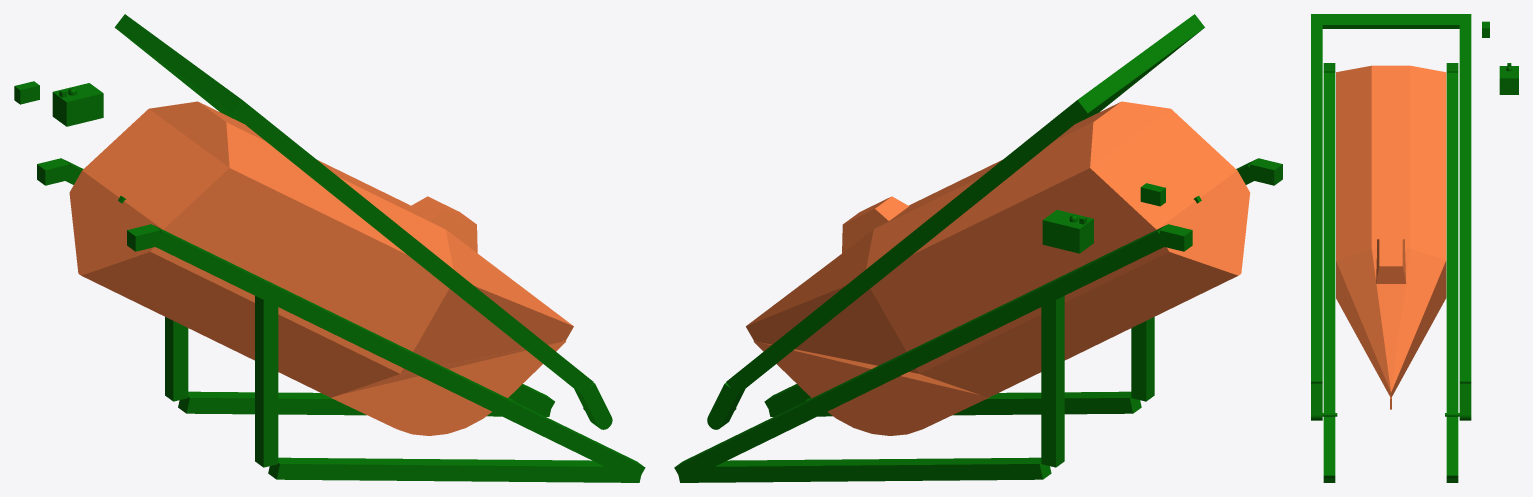
File: Image-1710907701648-2280797074160_76-SA50.fbx
The picture shows the model from 3 angles, left to right: view 1: azimuth 30°, elevation 25°; view 2: azimuth 150°, elevation 25°; view 3: azimuth 270°, elevation 25°; orthographic projection. The views are drawn at different scales.
Visible parts, largest first — view 1: PYRAMID 4 of SUBEQUIPMENT /76-SA50/HULL, PYRAMID 2 of SUBEQUIPMENT /76-SA50/HULL, PYRAMID 6 of SUBEQUIPMENT /76-SA50/HULL, BOX 8 of SUBEQUIPMENT /76-SA50/CRADL, BOX 5 of SUBEQUIPMENT /76-SA50/CRADL, BOX 5 of SUBEQUIPMENT /76-SA50/LIFT, PANEL 1 of SUBEQUIPMENT /76-SA50/HULL, BOX 4 of SUBEQUIPMENT /76-SA50/CRADL, PYRAMID 5 of SUBEQUIPMENT /76-SA50/HULL, BOX 1 of SUBEQUIPMENT /76-SA50/HULL, BOX 2 of SUBEQUIPMENT /76-SA50/CRADL, BOX 4 of SUBEQUIPMENT /76-SA50/LIFT (+11 smaller); view 2: PYRAMID 4 of SUBEQUIPMENT /76-SA50/HULL, PYRAMID 2 of SUBEQUIPMENT /76-SA50/HULL, BOX 1 of SUBEQUIPMENT /76-SA50/CRADL, PYRAMID 6 of SUBEQUIPMENT /76-SA50/HULL, BOX 3 of SUBEQUIPMENT /76-SA50/LIFT, PANEL 1 of SUBEQUIPMENT /76-SA50/HULL, BOX 2 of SUBEQUIPMENT /76-SA50/CRADL, PYRAMID 5 of SUBEQUIPMENT /76-SA50/HULL, BOX 3 of SUBEQUIPMENT /76-SA50/CRADL, BOX 1 of SUBEQUIPMENT /76-SA50/HULL, BOX 5 of SUBEQUIPMENT /76-SA50/CRADL, BOX 4 of SUBEQUIPMENT /76-SA50/LIFT (+11 smaller); view 3: PYRAMID 6 of SUBEQUIPMENT /76-SA50/HULL, BOX 1 of SUBEQUIPMENT /76-SA50/CRADL, BOX 8 of SUBEQUIPMENT /76-SA50/CRADL, BOX 3 of SUBEQUIPMENT /76-SA50/LIFT, BOX 5 of SUBEQUIPMENT /76-SA50/LIFT, POHEDRON 2 of SUBEQUIPMENT /76-SA50/HULL, POHEDRON 1 of SUBEQUIPMENT /76-SA50/HULL, BOX 4 of SUBEQUIPMENT /76-SA50/LIFT, PYRAMID 7 of SUBEQUIPMENT /76-SA50/HULL, PYRAMID 5 of SUBEQUIPMENT /76-SA50/HULL, PYRAMID 8 of SUBEQUIPMENT /76-SA50/HULL, PYRAMID 1 of SUBEQUIPMENT /76-SA50/HULL (+4 smaller).
Part boxes in pixels (x1,y1,x2,y2): PYRAMID 4 of SUBEQUIPMENT /76-SA50/HULL: (82, 109, 449, 351); PYRAMID 2 of SUBEQUIPMENT /76-SA50/HULL: (69, 193, 399, 397); PYRAMID 6 of SUBEQUIPMENT /76-SA50/HULL: (149, 101, 453, 268); BOX 8 of SUBEQUIPMENT /76-SA50/CRADL: (153, 225, 645, 474); BOX 5 of SUBEQUIPMENT /76-SA50/CRADL: (268, 457, 642, 482); BOX 5 of SUBEQUIPMENT /76-SA50/LIFT: (236, 108, 593, 395); PANEL 1 of SUBEQUIPMENT /76-SA50/HULL: (330, 340, 565, 435); BOX 4 of SUBEQUIPMENT /76-SA50/CRADL: (255, 292, 278, 467); PYRAMID 5 of SUBEQUIPMENT /76-SA50/HULL: (413, 286, 573, 351); BOX 1 of SUBEQUIPMENT /76-SA50/HULL: (69, 170, 412, 373); BOX 2 of SUBEQUIPMENT /76-SA50/CRADL: (178, 391, 552, 416); BOX 4 of SUBEQUIPMENT /76-SA50/LIFT: (114, 14, 252, 121); PYRAMID 4 of SUBEQUIPMENT /76-SA50/HULL: (870, 109, 1237, 351); PYRAMID 2 of SUBEQUIPMENT /76-SA50/HULL: (920, 193, 1249, 397); BOX 1 of SUBEQUIPMENT /76-SA50/CRADL: (674, 225, 1166, 482); PYRAMID 6 of SUBEQUIPMENT /76-SA50/HULL: (866, 101, 1170, 268); BOX 3 of SUBEQUIPMENT /76-SA50/LIFT: (726, 108, 1082, 394); PANEL 1 of SUBEQUIPMENT /76-SA50/HULL: (753, 340, 988, 435); BOX 2 of SUBEQUIPMENT /76-SA50/CRADL: (677, 457, 1051, 482); PYRAMID 5 of SUBEQUIPMENT /76-SA50/HULL: (746, 286, 906, 351); BOX 3 of SUBEQUIPMENT /76-SA50/CRADL: (1041, 294, 1064, 467); BOX 1 of SUBEQUIPMENT /76-SA50/HULL: (916, 170, 1249, 373); BOX 5 of SUBEQUIPMENT /76-SA50/CRADL: (767, 391, 1141, 416); BOX 4 of SUBEQUIPMENT /76-SA50/LIFT: (1067, 14, 1204, 121); PYRAMID 6 of SUBEQUIPMENT /76-SA50/HULL: (1336, 65, 1446, 259); BOX 1 of SUBEQUIPMENT /76-SA50/CRADL: (1446, 72, 1458, 478); BOX 8 of SUBEQUIPMENT /76-SA50/CRADL: (1323, 72, 1335, 478); BOX 3 of SUBEQUIPMENT /76-SA50/LIFT: (1459, 25, 1471, 383); BOX 5 of SUBEQUIPMENT /76-SA50/LIFT: (1311, 25, 1322, 383); POHEDRON 2 of SUBEQUIPMENT /76-SA50/HULL: (1336, 248, 1390, 391); POHEDRON 1 of SUBEQUIPMENT /76-SA50/HULL: (1391, 248, 1446, 391); BOX 4 of SUBEQUIPMENT /76-SA50/LIFT: (1311, 14, 1471, 28); PYRAMID 7 of SUBEQUIPMENT /76-SA50/HULL: (1372, 248, 1410, 391); PYRAMID 5 of SUBEQUIPMENT /76-SA50/HULL: (1336, 261, 1446, 390); PYRAMID 8 of SUBEQUIPMENT /76-SA50/HULL: (1376, 239, 1406, 283); PYRAMID 1 of SUBEQUIPMENT /76-SA50/HULL: (1336, 290, 1446, 397).
Size of the model in its own units: 10.5 by 5.37 by 9.5.
